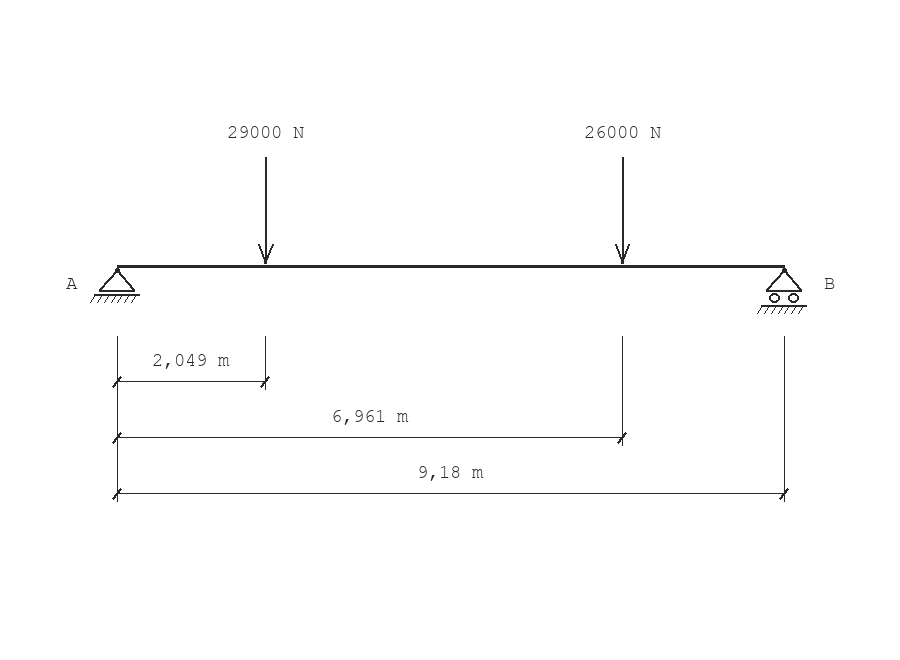pin_support: (90, 268, 140, 303)
point_load: (258, 157, 274, 264), (615, 157, 630, 264)
roller_support: (757, 268, 807, 314)
